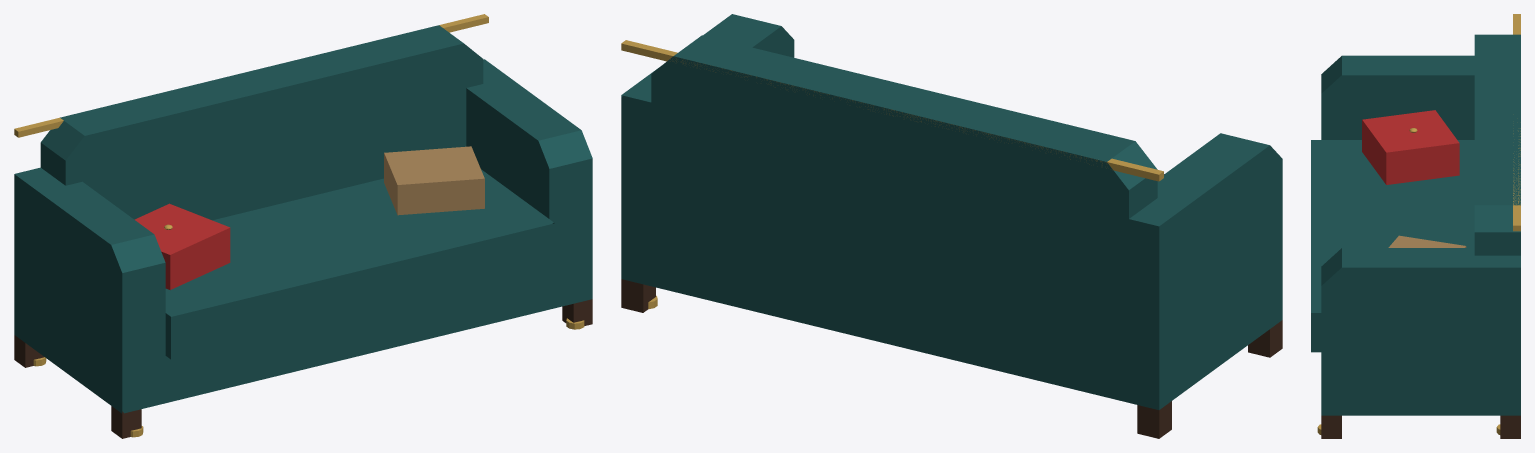
The model's file is loungeSofa.glb.
The picture shows the model from 3 angles, left to right: view 1: azimuth 30°, elevation 25°; view 2: azimuth 150°, elevation 25°; view 3: azimuth 270°, elevation 25°; orthographic projection. The views are drawn at different scales.
Visible parts, largest first — view 1: loungeSofa(Clone); view 2: loungeSofa(Clone); view 3: loungeSofa(Clone).
Boxes of the visible parts, x1,y1,x2,y2 form: loungeSofa(Clone): [14, 14, 592, 438]; loungeSofa(Clone): [621, 14, 1282, 438]; loungeSofa(Clone): [1311, 14, 1520, 438].
Size of the model in its own units: 0.98 by 0.46 by 0.41.
